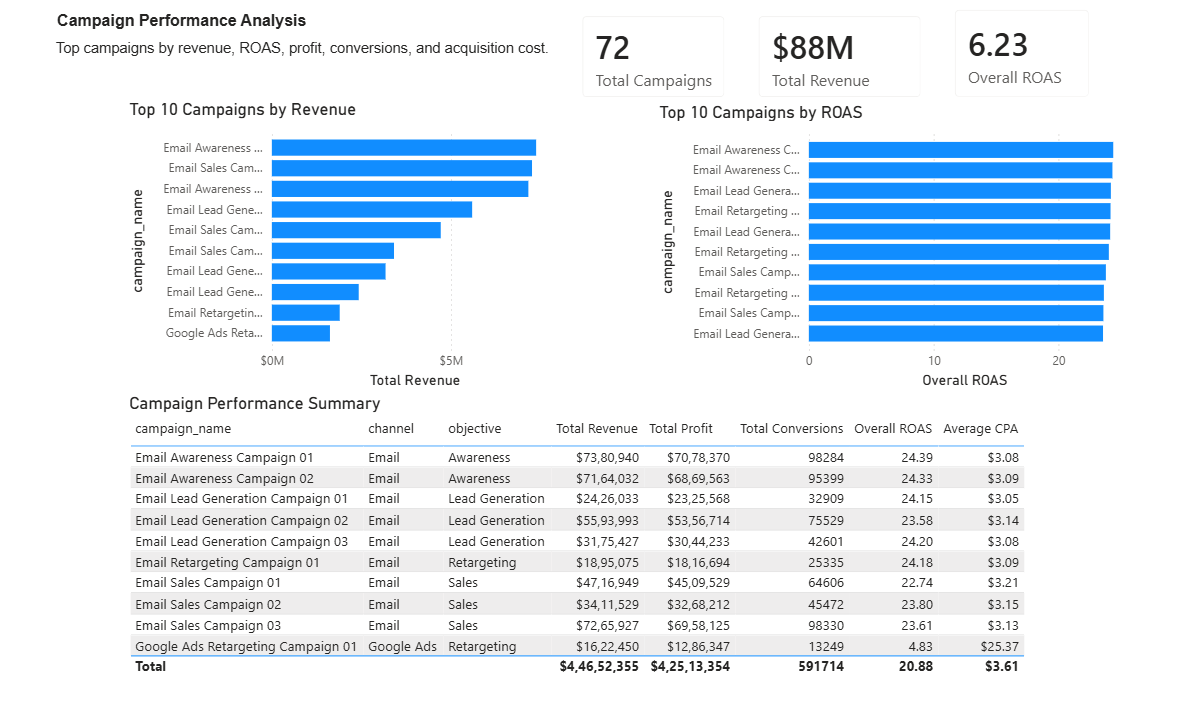

This screenshot's page, from the dashboard's own definition file:
{"tool":"powerbi","page":{"name":"Campaign Performance","canvas":[1280,720],"ordinal":2},"visuals":[{"type":"textbox","box":[61.2,13.8,305,37.5],"z":0},{"type":"textbox","box":[61.2,41.2,546.2,46.2],"z":1},{"type":"cardVisual","fields":{"Data":["cleaned_marketing_campaigns.Total Campaigns"]},"box":[597.5,6.2,176.2,115],"z":2},{"type":"cardVisual","fields":{"Data":["cleaned_marketing_campaigns.Total Revenue"]},"box":[773.8,6.2,196.2,115],"z":3},{"type":"cardVisual","fields":{"Data":["cleaned_marketing_campaigns.Overall ROAS"]},"box":[970,0,168.8,121.2],"z":4},{"type":"clusteredBarChart","title":"Top 10 Campaigns by Revenue","fields":{"Category":["cleaned_marketing_campaigns.campaign_name"],"Y":["cleaned_marketing_campaigns.Total Revenue"]},"box":[156.2,106.2,451.2,293.8],"z":5},{"type":"clusteredBarChart","title":"Top 10 Campaigns by ROAS","fields":{"Category":["cleaned_marketing_campaigns.campaign_name"],"Y":["cleaned_marketing_campaigns.Overall ROAS"]},"box":[686.2,108.8,478.8,291.2],"z":6},{"type":"tableEx","title":"Campaign Performance Summary","fields":{"Values":["cleaned_marketing_campaigns.campaign_name","cleaned_marketing_campaigns.channel","cleaned_marketing_campaigns.objective","cleaned_marketing_campaigns.Total Revenue","cleaned_marketing_campaigns.Total Profit","cleaned_marketing_campaigns.Total Conversions","cleaned_marketing_campaigns.Overall ROAS","cleaned_marketing_campaigns.Average CPA"]},"box":[156.2,400,982.5,300],"z":7}]}

Visuals, with their boxes on the page's 1280x720 design canvas (x1, y1, x2, y2). These are canvas units, not pixel positions in the 1193x701 screenshot, which may show the page scaled, cropped or inside an application window:
textbox: crop(61, 14, 366, 51)
textbox: crop(61, 41, 607, 87)
cardVisual - cleaned_marketing_campaigns.Total Campaigns: crop(598, 6, 774, 121)
cardVisual - cleaned_marketing_campaigns.Total Revenue: crop(774, 6, 970, 121)
cardVisual - cleaned_marketing_campaigns.Overall ROAS: crop(970, 0, 1139, 121)
"Top 10 Campaigns by Revenue" clusteredBarChart: crop(156, 106, 607, 400)
"Top 10 Campaigns by ROAS" clusteredBarChart: crop(686, 109, 1165, 400)
"Campaign Performance Summary" tableEx: crop(156, 400, 1139, 700)
